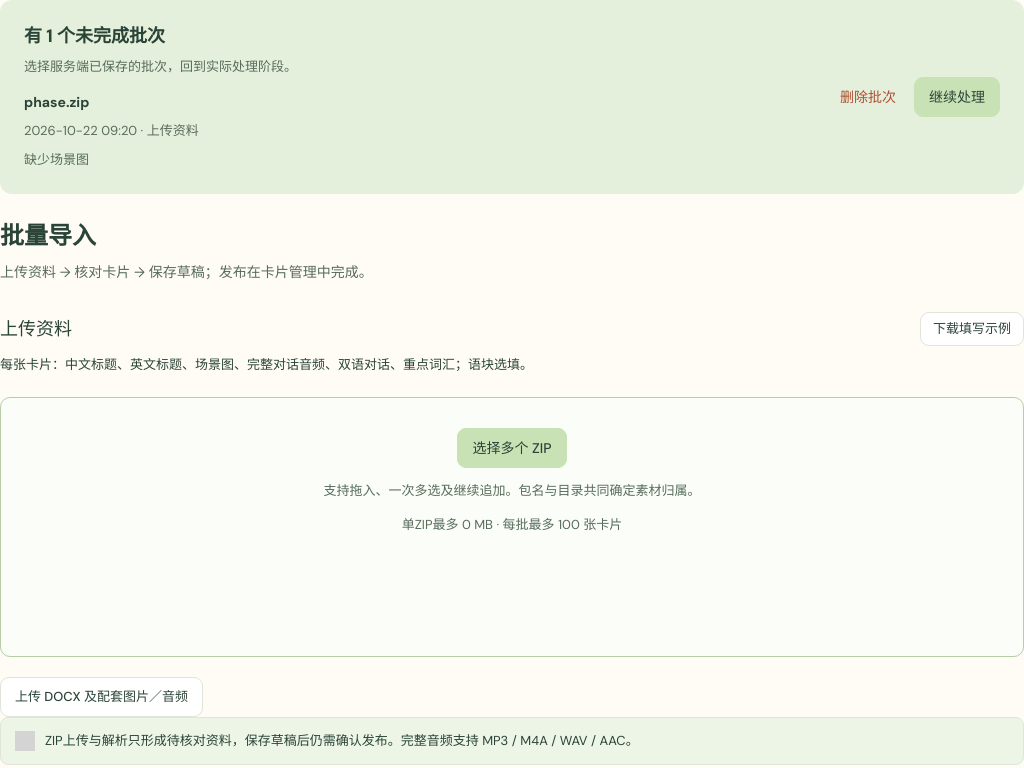
Test: restores the server upload phase instead of inferring review from items
Click the button "继续处理": [957, 97] box [914, 77, 1000, 117]
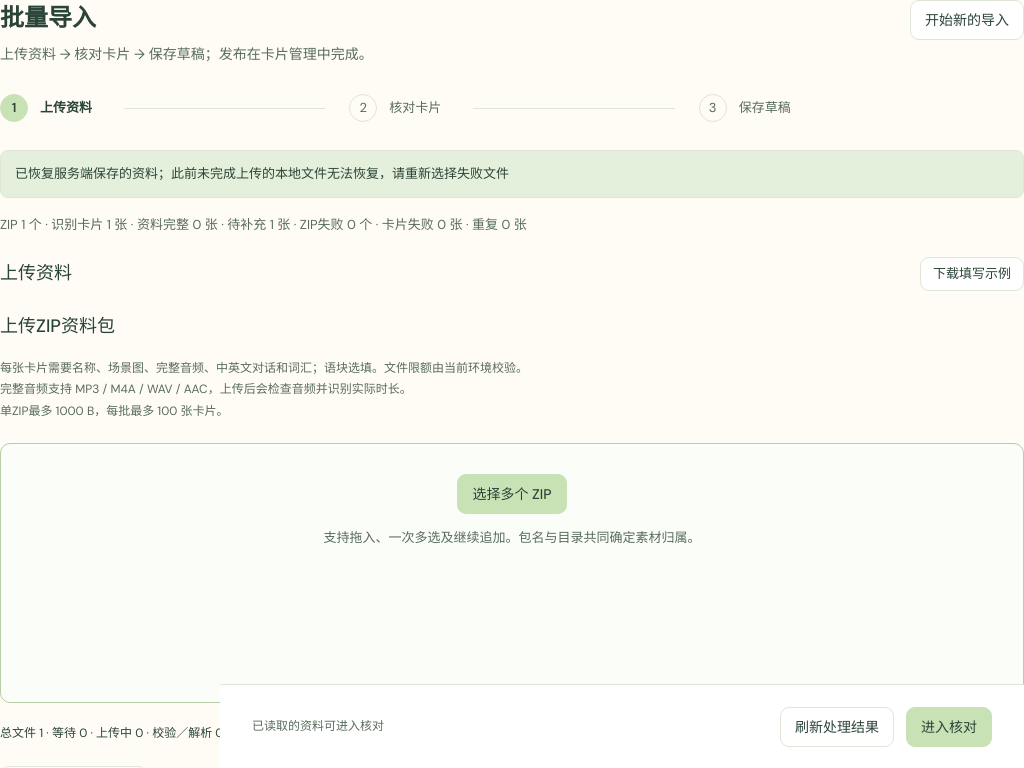
Expected: the list item "1 上传资料" is shown, [0, 94, 92, 122]
Expected: the text "重新选择" is shown, [15, 165, 509, 182]
